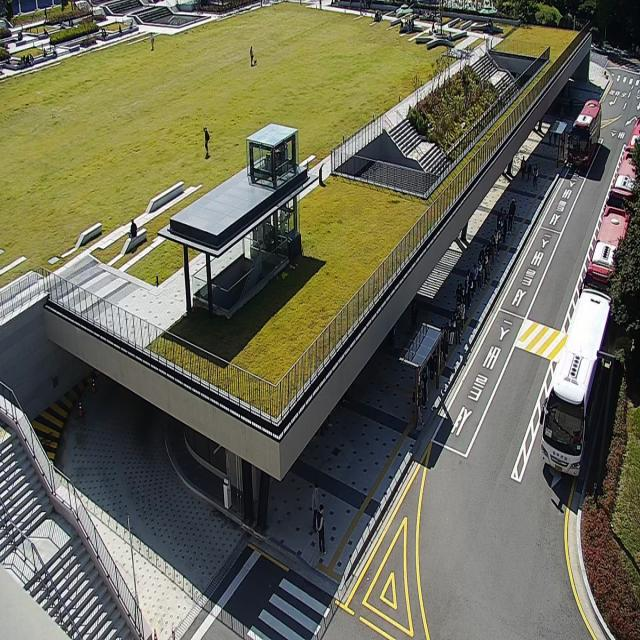queue: (416, 197, 516, 427)
